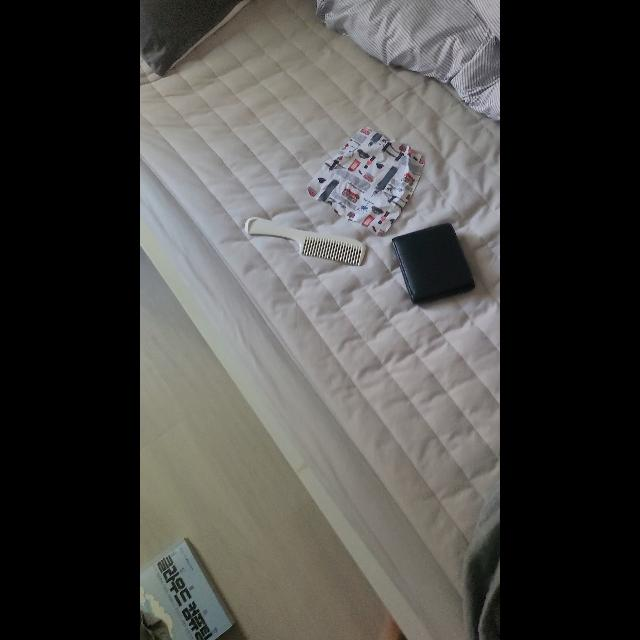COMB: (244, 217, 366, 266)
Glasses cleaning cloth: (307, 128, 425, 236)
WALLET: (392, 223, 476, 305)
